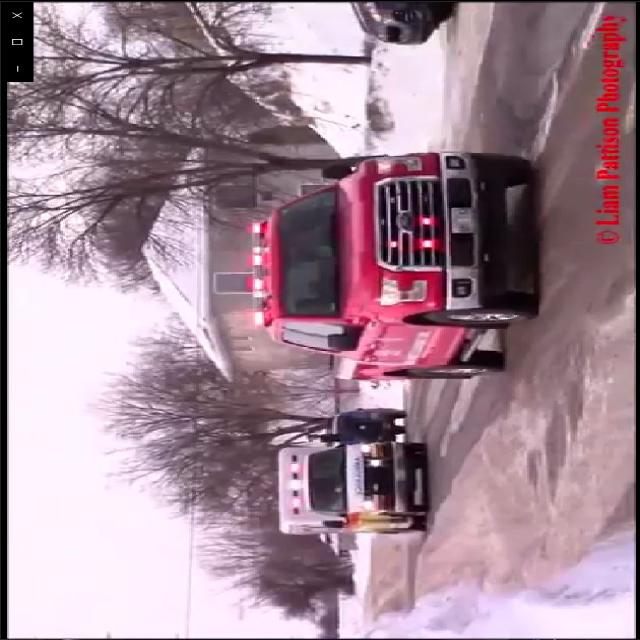emergency: (243, 145, 541, 385), (268, 428, 437, 536)
